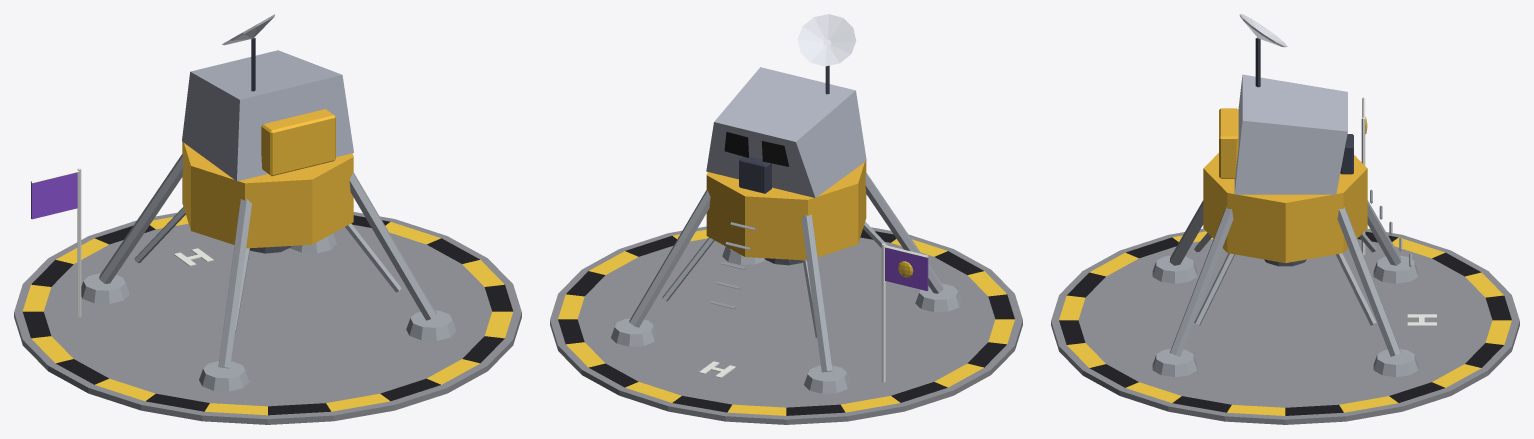
Rendered from LunarLander.fbx.
3 views of the same model, side by side, from view 1: azimuth 30°, elevation 25°; view 2: azimuth 150°, elevation 25°; view 3: azimuth 270°, elevation 25° (orthographic). The views are drawn at different scales.
Parts seen in each view (by area): view 1: LunarLander_Grey, LunarLander_Gold, LunarLander_MoonPanel, LunarLander_Metal, LunarLander_Yellow, LunarLander_Black, LunarLander_Purple, LunarLander_White; view 2: LunarLander_Grey, LunarLander_MoonPanel, LunarLander_Gold, LunarLander_Metal, LunarLander_Black, LunarLander_Yellow, LunarLander_MoonWhite, LunarLander_Purple, LunarLander_MoonDark, LunarLander_White; view 3: LunarLander_Grey, LunarLander_MoonPanel, LunarLander_Gold, LunarLander_Metal, LunarLander_Yellow, LunarLander_Black, LunarLander_MoonDark, LunarLander_White, LunarLander_MoonWhite.
Boxes of the visible parts, x1,y1,x2,y2 form: LunarLander_Grey: [14, 212, 521, 424]; LunarLander_Gold: [182, 109, 353, 248]; LunarLander_MoonPanel: [182, 50, 353, 181]; LunarLander_Metal: [81, 154, 456, 391]; LunarLander_Yellow: [22, 215, 512, 415]; LunarLander_Black: [23, 215, 513, 415]; LunarLander_Purple: [31, 172, 77, 219]; LunarLander_White: [30, 168, 213, 317]; LunarLander_Grey: [550, 226, 1022, 424]; LunarLander_MoonPanel: [706, 67, 866, 197]; LunarLander_Gold: [706, 161, 866, 260]; LunarLander_Metal: [611, 173, 962, 393]; LunarLander_Black: [558, 132, 1014, 415]; LunarLander_Yellow: [558, 229, 1014, 415]; LunarLander_MoonWhite: [797, 14, 856, 66]; LunarLander_Purple: [885, 247, 928, 290]; LunarLander_MoonDark: [739, 65, 829, 193]; LunarLander_White: [699, 243, 928, 382]; LunarLander_Grey: [1051, 228, 1519, 424]; LunarLander_MoonPanel: [1234, 74, 1347, 194]; LunarLander_Gold: [1203, 108, 1367, 263]; LunarLander_Metal: [1152, 189, 1418, 377]; LunarLander_Yellow: [1059, 117, 1511, 415]; LunarLander_Black: [1059, 141, 1511, 415]; LunarLander_MoonDark: [1255, 37, 1353, 174]; LunarLander_White: [1361, 97, 1436, 325]; LunarLander_MoonWhite: [1239, 14, 1287, 47].
Size of the model in its own units: 24 by 16.82 by 24.
